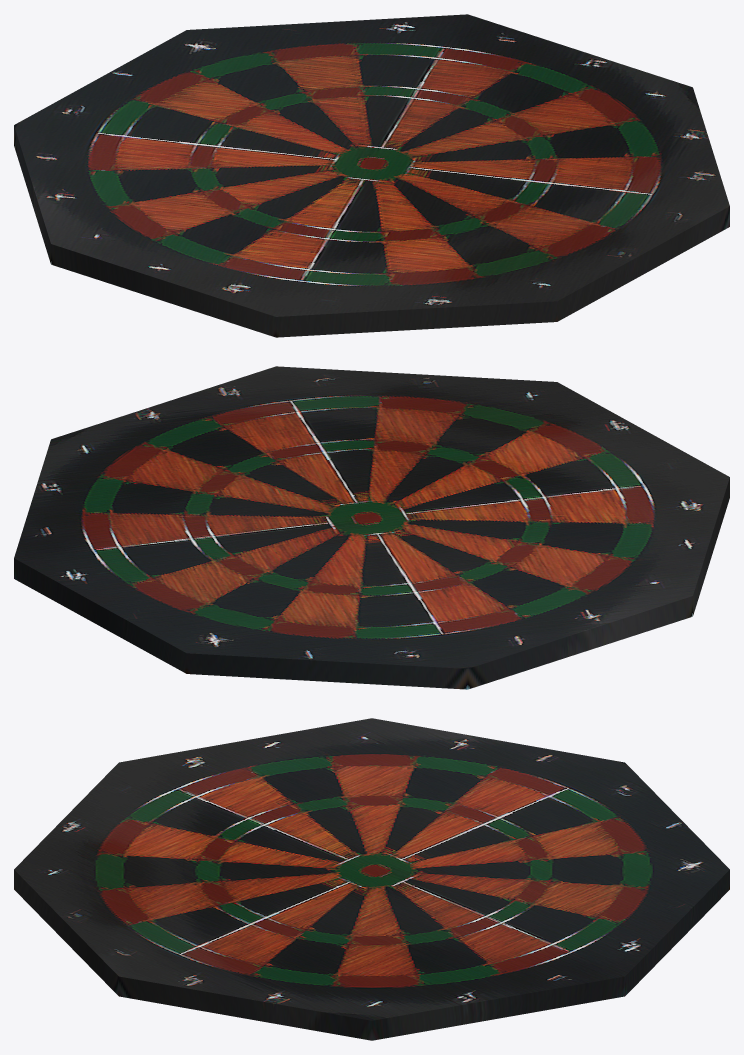
The model's file is Porta Copo.FBX.
3 renders of one model, top to bottom at view 1: azimuth 30°, elevation 25°; view 2: azimuth 150°, elevation 25°; view 3: azimuth 270°, elevation 25°, orthographic. The views are drawn at different scales.
Visible parts, largest first — view 1: Porta Copo; view 2: Porta Copo; view 3: Porta Copo.
Boxes of the visible parts, x1,y1,x2,y2 form: Porta Copo: [14, 14, 729, 337]; Porta Copo: [14, 366, 729, 689]; Porta Copo: [14, 718, 729, 1040].
Bounding box in the file's own units: 8.12 × 0.25 × 8.12.
